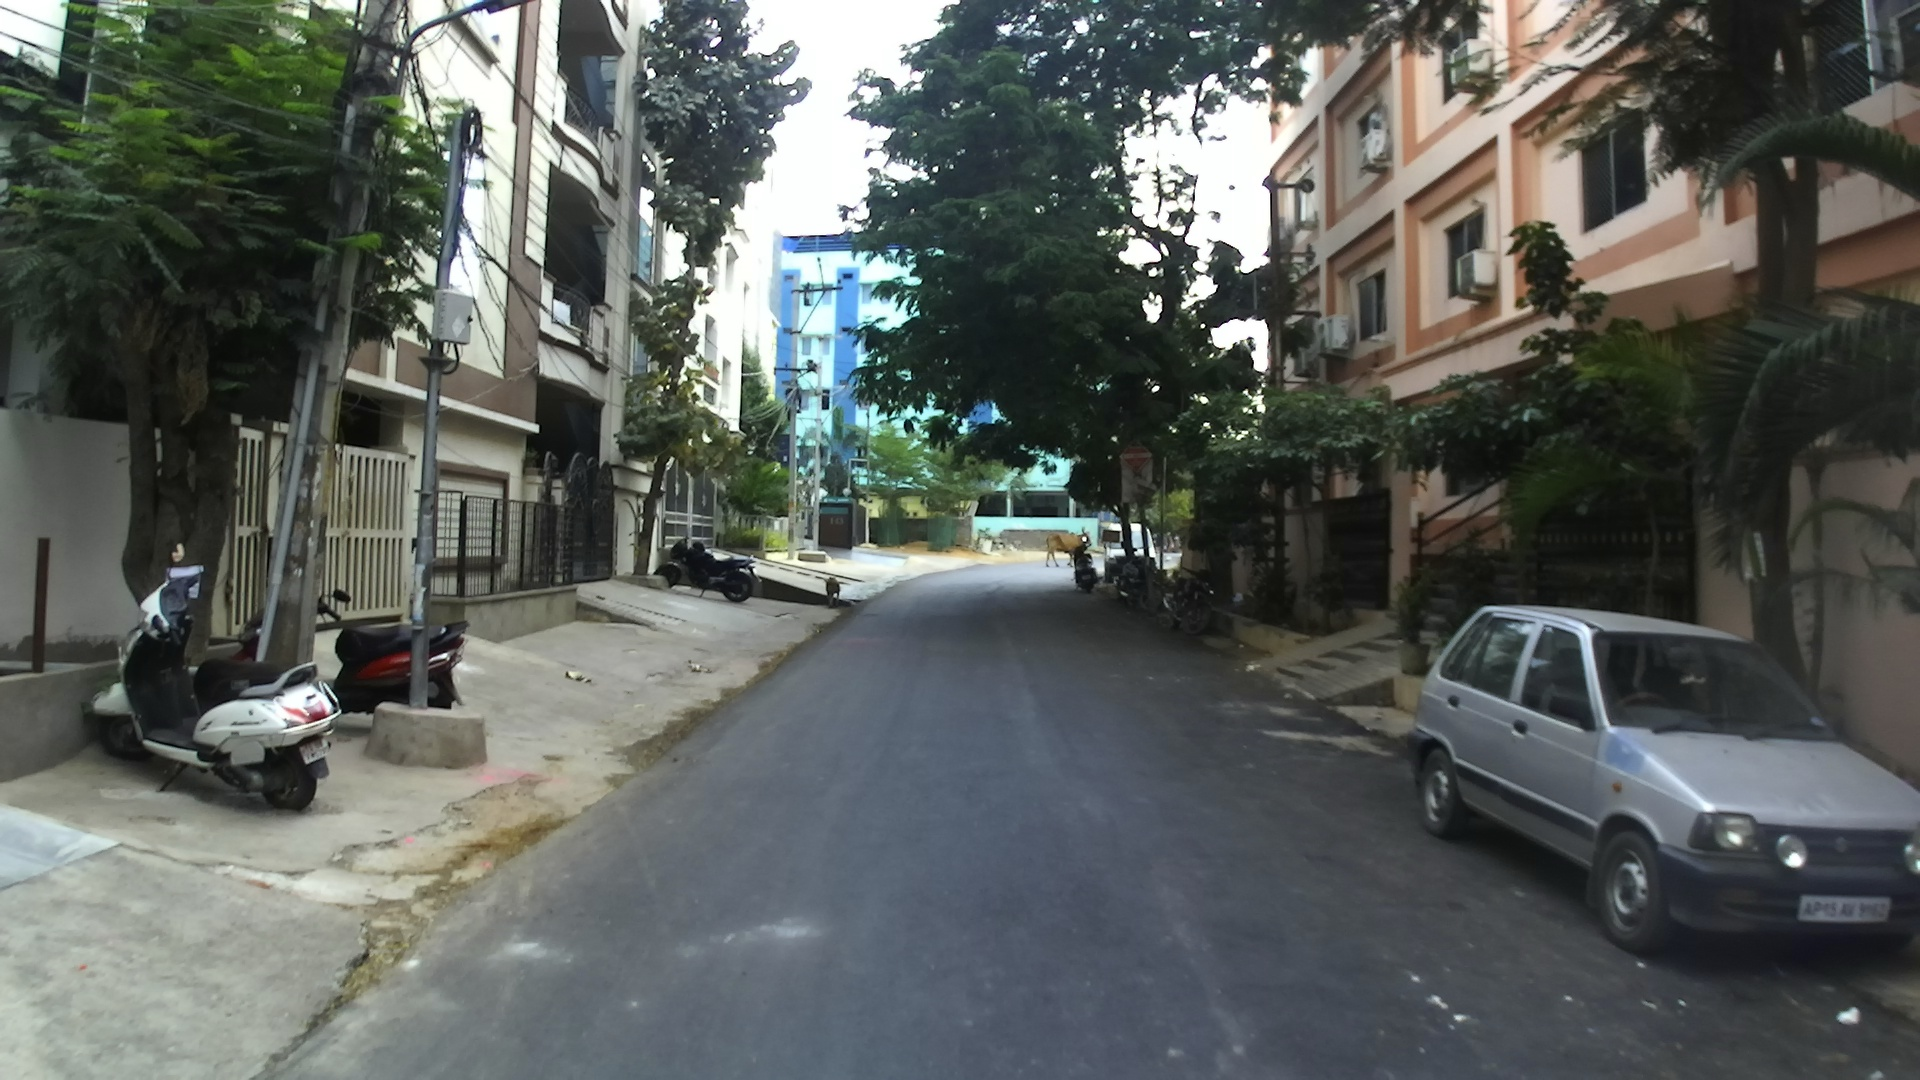vehicle: (1404, 601, 1919, 961), (99, 554, 338, 810)
